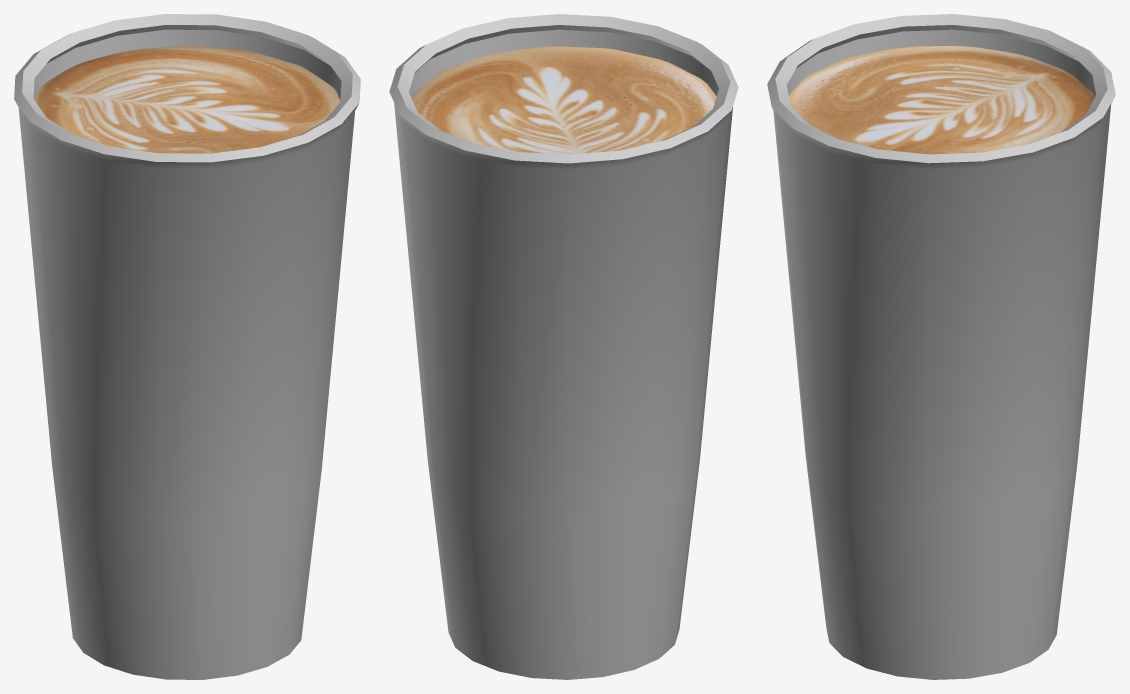
File: CostaCup.obj
3 renders of one model, left to right at view 1: azimuth 30°, elevation 25°; view 2: azimuth 150°, elevation 25°; view 3: azimuth 270°, elevation 25°, orthographic.
Parts seen in each view (by area): view 1: cup, Disc; view 2: cup, Disc; view 3: cup, Disc.
Part boxes in pixels (x1=…): cup: x1=14, y1=14, x2=360, y2=679; Disc: x1=33, y1=46, x2=340, y2=153; cup: x1=389, y1=14, x2=738, y2=679; Disc: x1=411, y1=46, x2=716, y2=154; cup: x1=767, y1=14, x2=1115, y2=679; Disc: x1=788, y1=45, x2=1094, y2=154.
Bounding box in the file's own units: 5.19 × 8.98 × 5.19.
2 materials, 1 textured.
